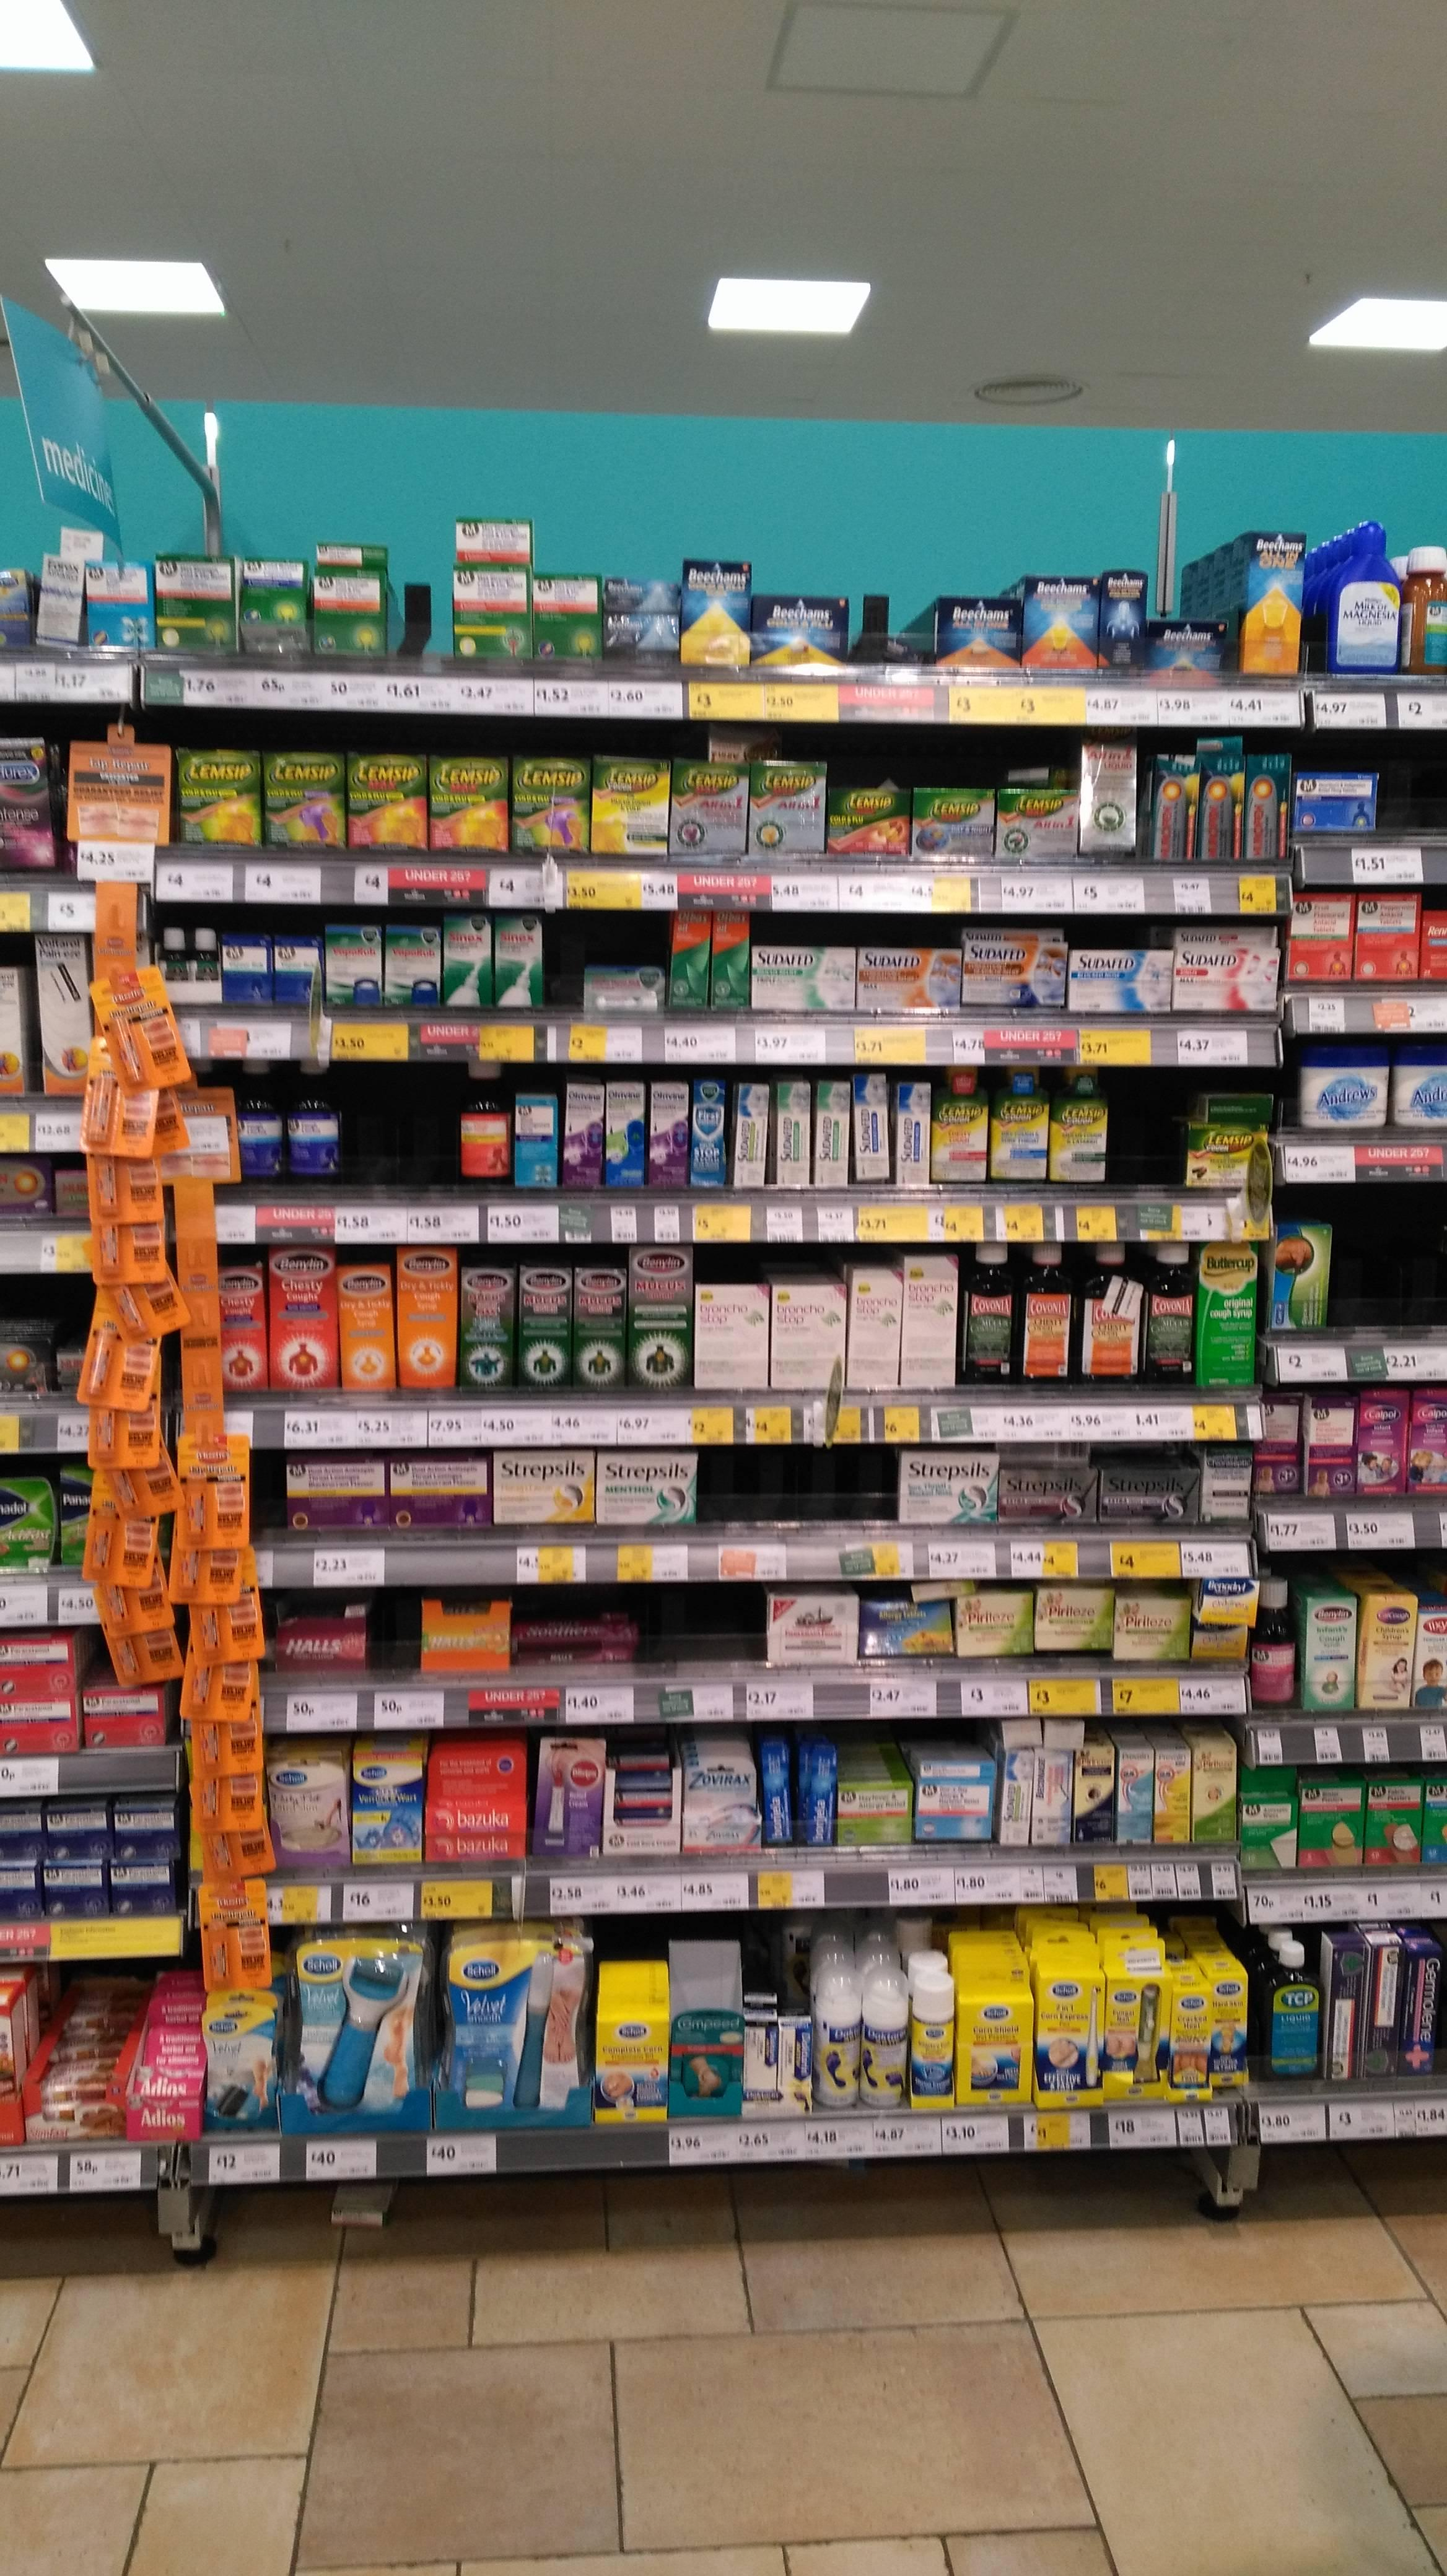empty: (708, 1445, 892, 1522), (1346, 1194, 1447, 1330), (352, 1067, 458, 1182), (644, 1578, 759, 1658), (851, 570, 929, 669), (1118, 1077, 1176, 1185), (402, 554, 449, 667)
misalignment: (379, 1592, 511, 1674), (552, 957, 662, 1014)
